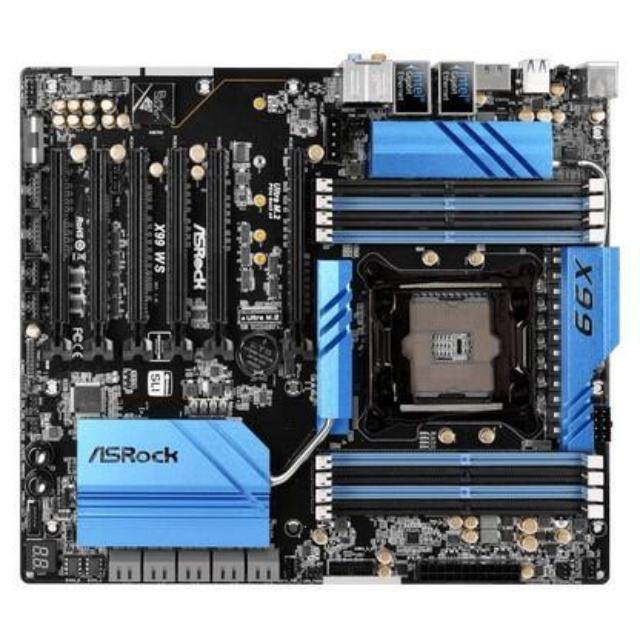Mainboard: (16, 60, 616, 586)
